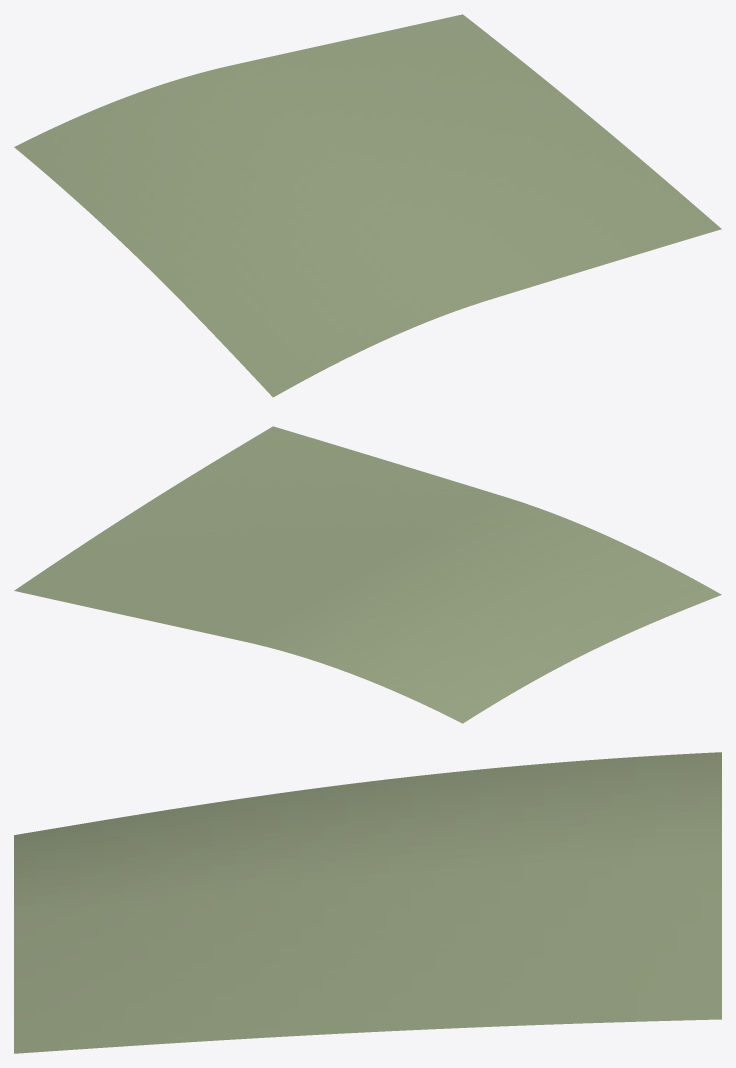
The model's file is expanse-26-14.glb.
3 views of the same model, one above another, from view 1: azimuth 30°, elevation 25°; view 2: azimuth 150°, elevation 25°; view 3: azimuth 270°, elevation 25° (orthographic). The views are drawn at different scales.
Visible parts, largest first — view 1: expanse-26-14; view 2: expanse-26-14; view 3: expanse-26-14.
Part boxes in pixels (x1,y1,x2,y2): expanse-26-14: (14,14,721,397); expanse-26-14: (14,426,721,723); expanse-26-14: (14,752,721,1053).
Size of the model in its own units: 256 by 48.87 by 256.
